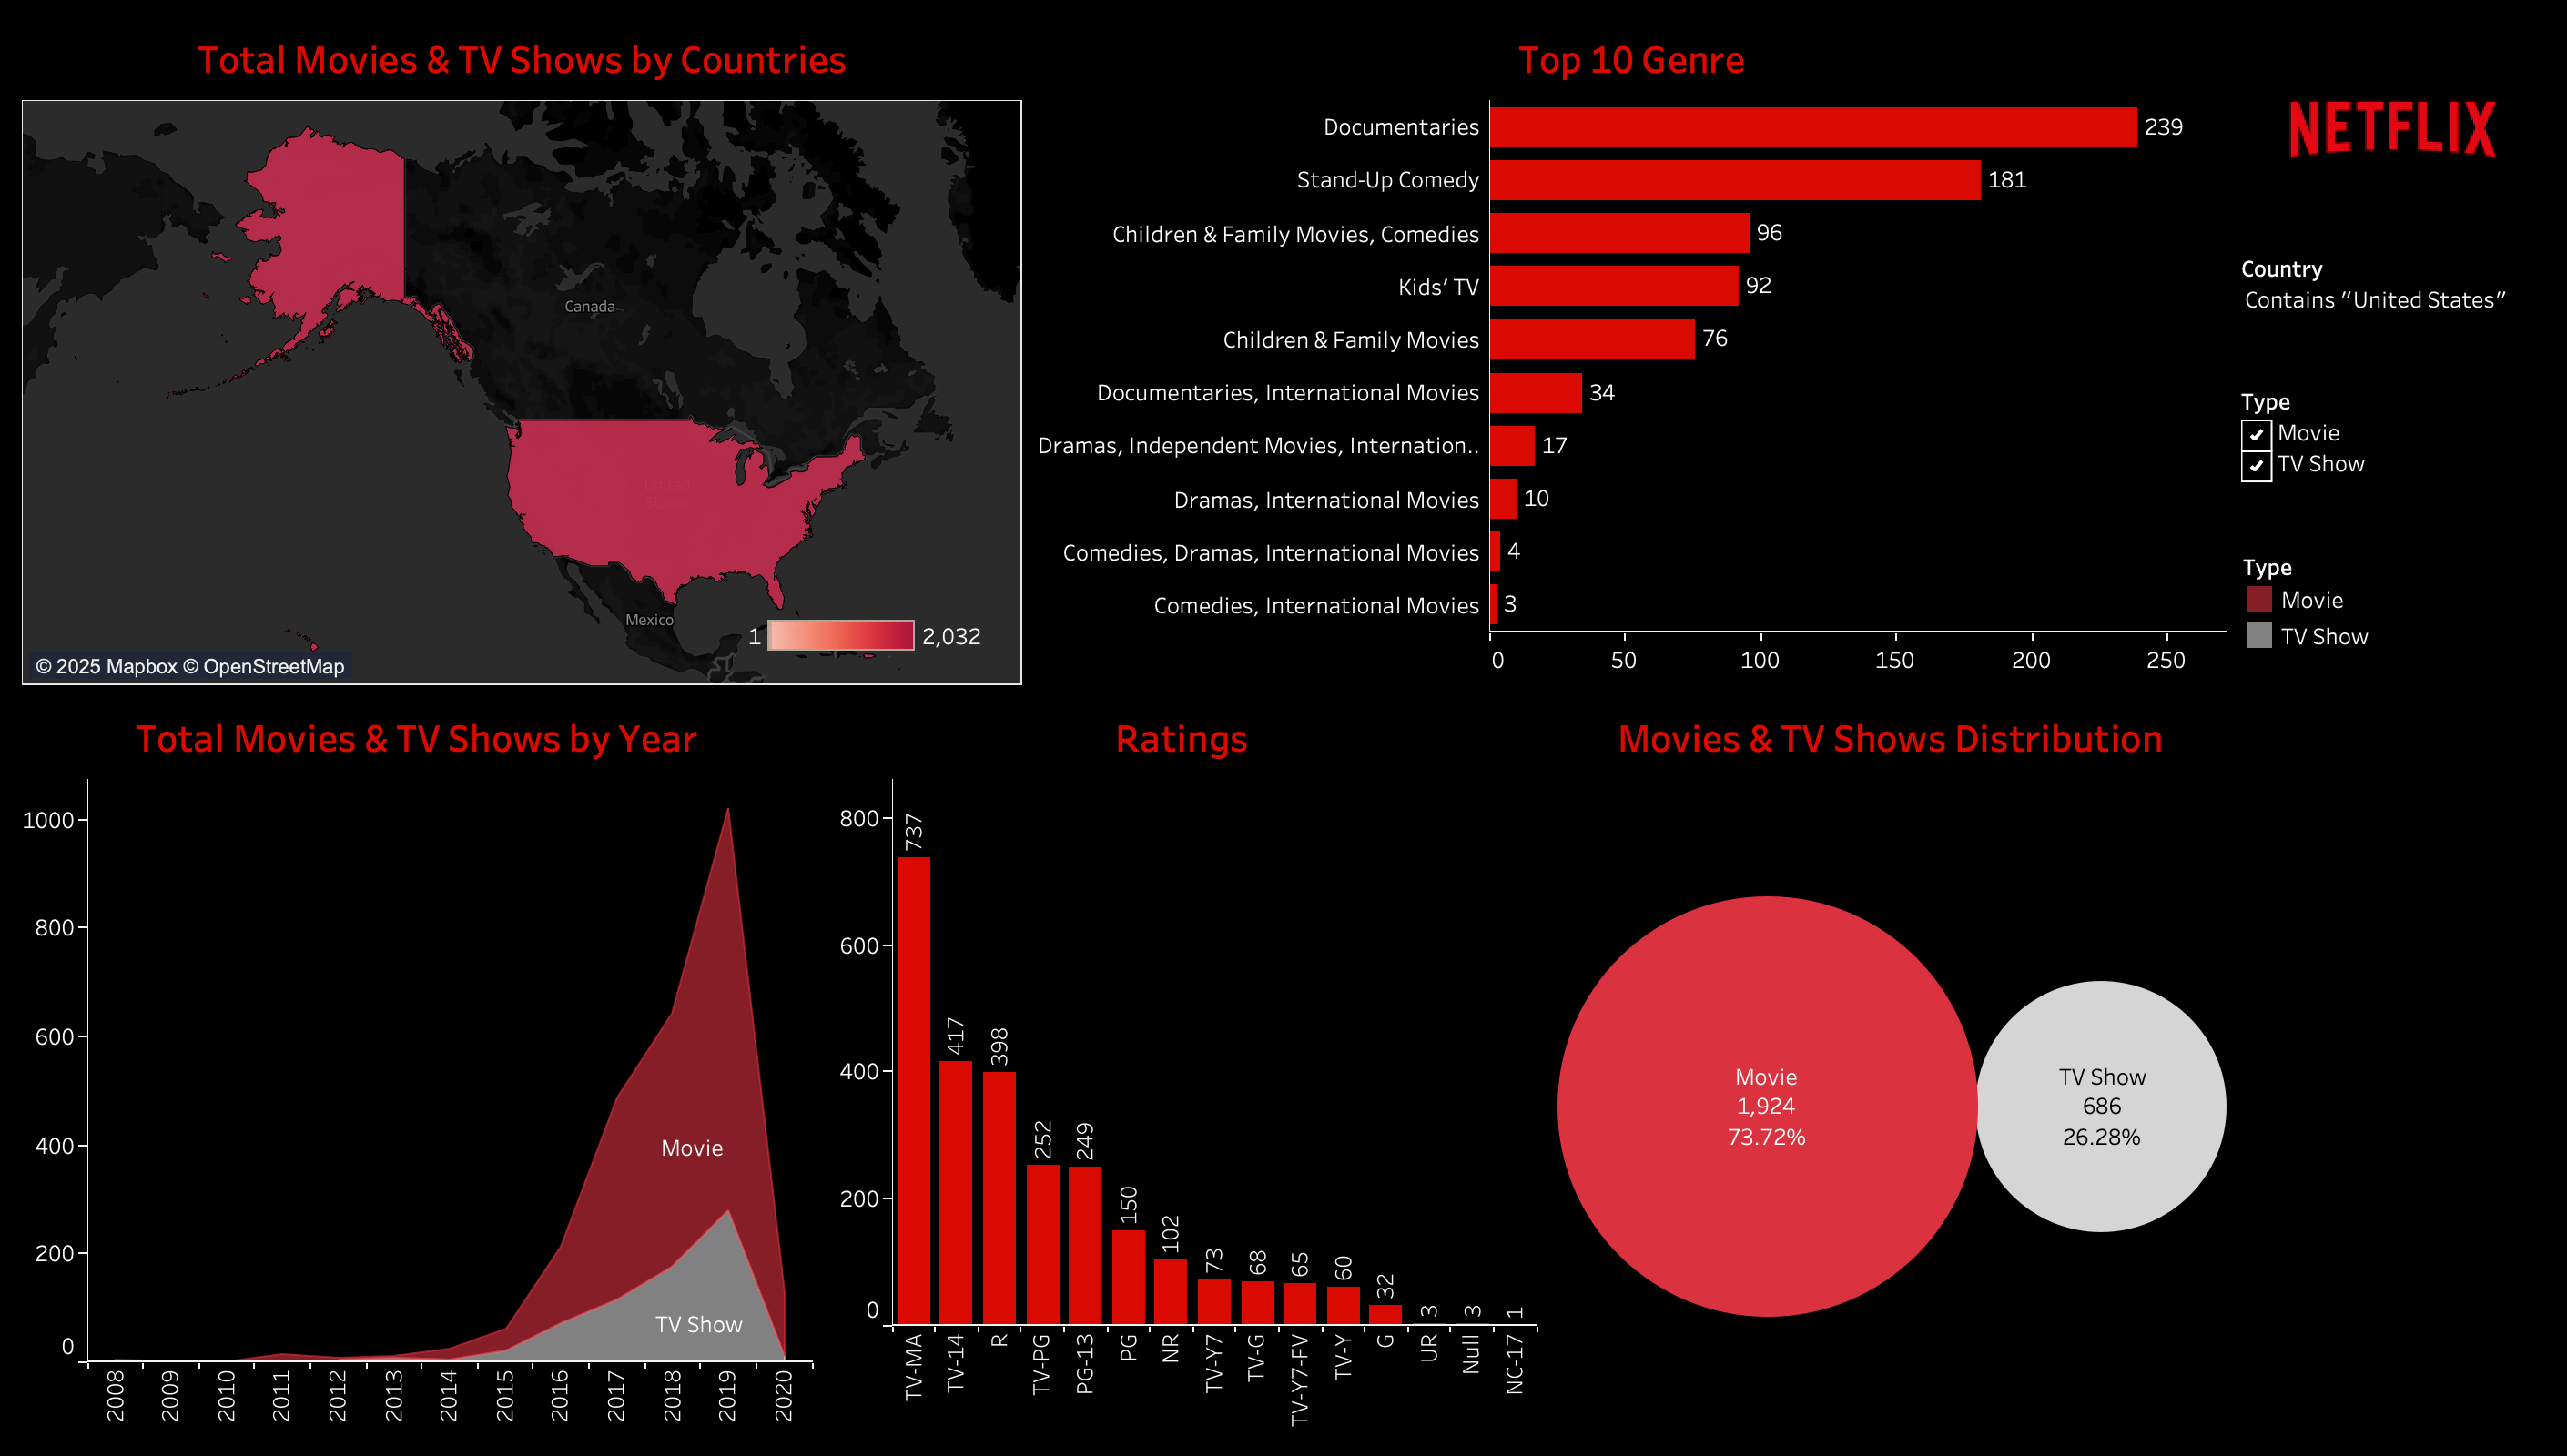

The page's visual inventory and layout, read from the dashboard file:
{"tool":"tableau","page":{"name":"Netflix","canvas":[1410,800],"ordinal":0},"visuals":[{"type":"worksheet","title":"Total Movies & TV Shows by Countries","mark":"Multipolygon","box":[8,8,558.3,373]},{"type":"worksheet","title":"Top 10 Genre","mark":"Automatic","rows":["listed_in"],"cols":["show_id"],"box":[566.3,8,660.7,373]},{"type":"image","param":"/Users/siya/Downloads/Netflix Dashboard/Netflix logo.png","box":[1227,8,175,126]},{"type":"filter","title":"Total Movies & TV Shows by Year","param":"[federated.1kptx0v0jbjw831bnegm413axtkj].[none:country:nk]","box":[1227,134,175,73]},{"type":"filter","title":"Total Movies & TV Shows by Year","param":"[federated.1kptx0v0jbjw831bnegm413axtkj].[none:type:nk]","box":[1227,207,175,90]},{"type":"legend","title":"Total Movies & TV Shows by Year","param":"[federated.1kptx0v0jbjw831bnegm413axtkj].[none:type:nk]","box":[1227,297,175,82]},{"type":"legend","title":"Total Movies & TV Shows by Countries","param":"[federated.1kptx0v0jbjw831bnegm413axtkj].[ctd:show_id:qk]","box":[407,337,137,34]},{"type":"worksheet","title":"Total Movies & TV Shows by Year","mark":"Area","rows":["show_id"],"cols":["date_added"],"box":[8,381,442.4,411]},{"type":"worksheet","title":"Ratings","mark":"Automatic","rows":["show_id"],"cols":["rating"],"box":[450.4,381,399.3,411]},{"type":"worksheet","title":"Movies & TV Shows Distribution","mark":"Circle","box":[849.7,381,377.3,411]}]}

Visuals, with their boxes in screenshot pixels (x1, y1, x2, y2), scaled from the page's 1410x800 canvas onto the 2567x1456 screenshot:
"Total Movies & TV Shows by Countries" worksheet (Multipolygon marks): (15, 15, 1031, 693)
"Top 10 Genre" worksheet: (1031, 15, 2234, 693)
image: (2234, 15, 2552, 244)
"Total Movies & TV Shows by Year" filter: (2234, 244, 2552, 377)
"Total Movies & TV Shows by Year" filter: (2234, 377, 2552, 541)
"Total Movies & TV Shows by Year" legend: (2234, 541, 2552, 690)
"Total Movies & TV Shows by Countries" legend: (741, 613, 990, 675)
"Total Movies & TV Shows by Year" worksheet (Area marks): (15, 693, 820, 1441)
"Ratings" worksheet: (820, 693, 1547, 1441)
"Movies & TV Shows Distribution" worksheet (Circle marks): (1547, 693, 2234, 1441)
